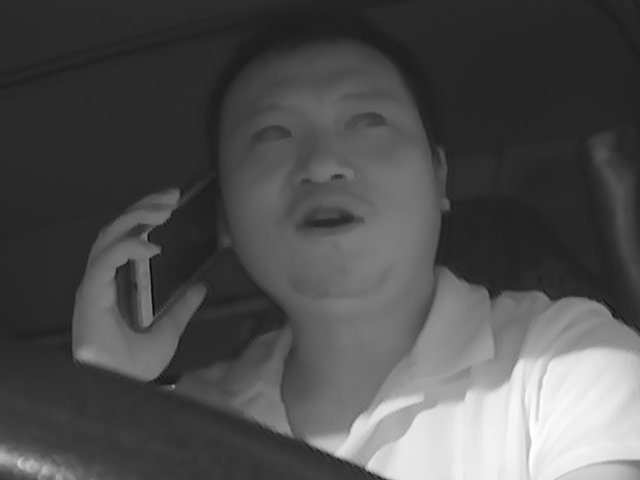hand: (69, 186, 206, 379)
